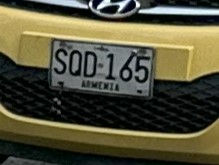number plate: (0, 6, 218, 163)
